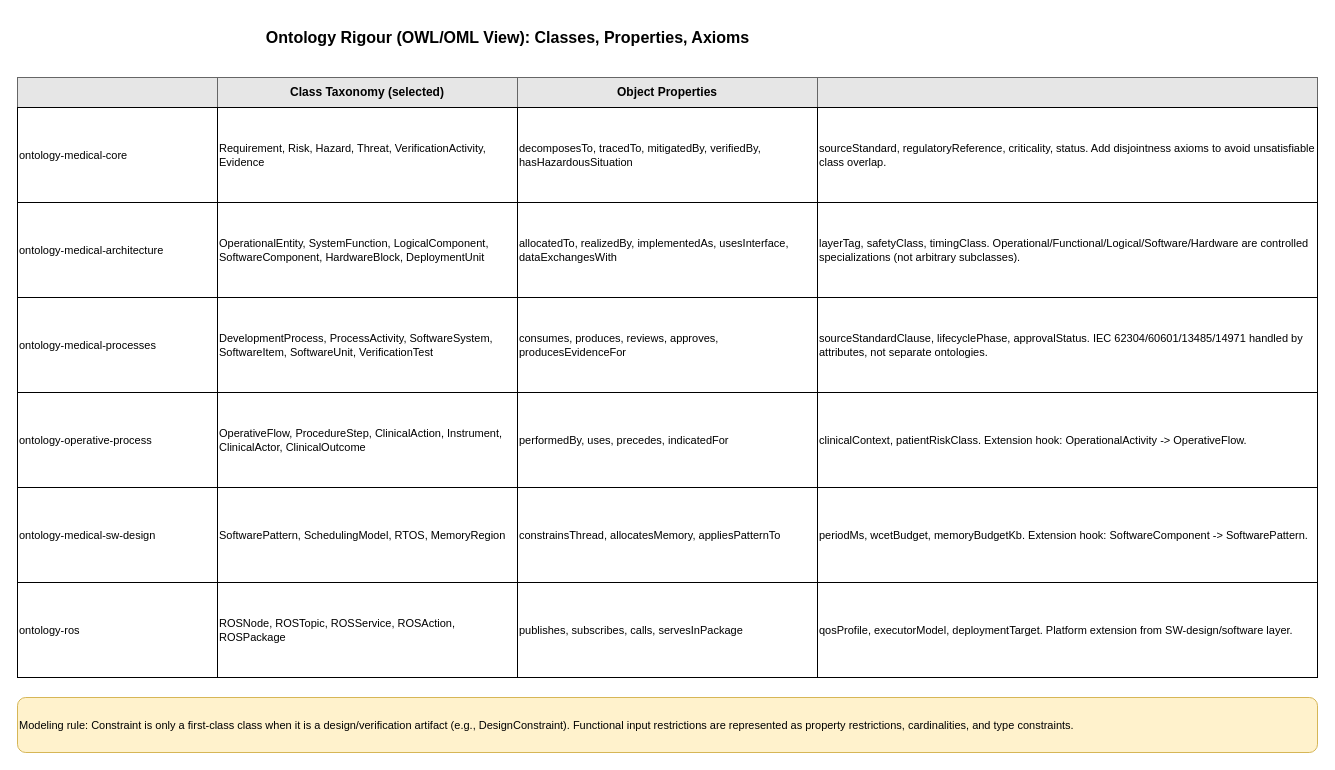
Image size: 1335x770. Some labels were removed from this diagram. The shapes that lost their labels are listed below. From the top down, each one's centre as x and y in pixels, then its label:
At (117,92): "Package".
At (1067,92): "Data Properties + Axioms".
